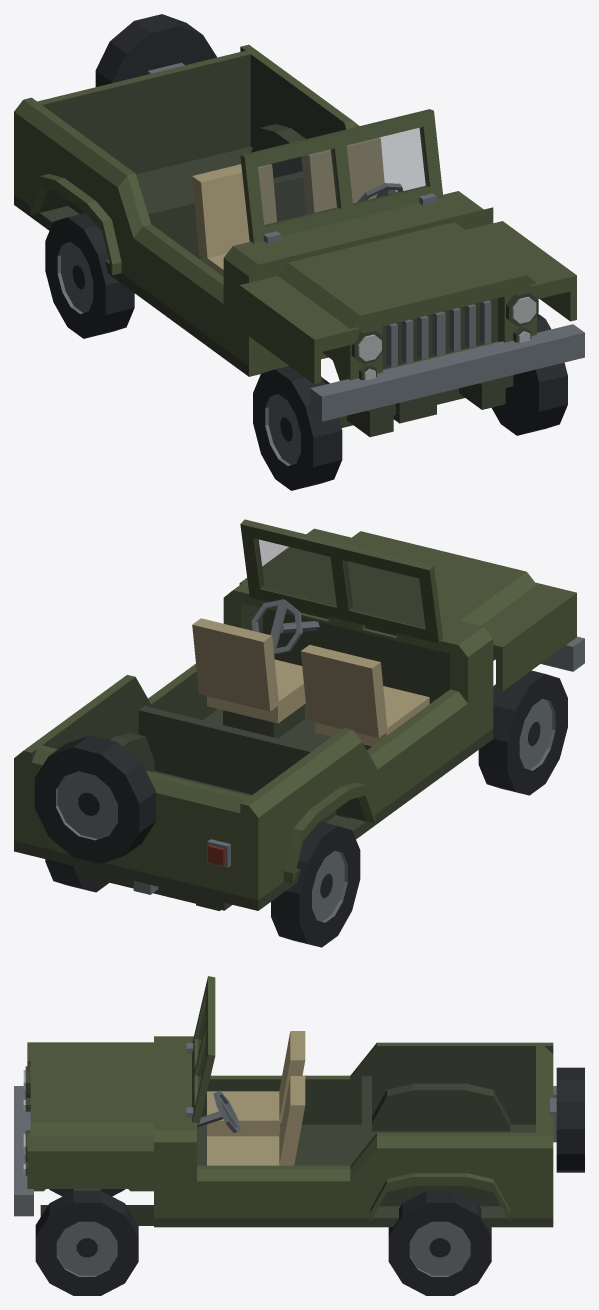
The model's file is scout-jeep.glb.
3 renders of one model, top to bottom at view 1: azimuth 30°, elevation 25°; view 2: azimuth 150°, elevation 25°; view 3: azimuth 270°, elevation 25°, orthographic. The views are drawn at different scales.
Parts seen in each view (by area): view 1: object 1, object 2, wheel-fl, wheel-rl, object 7, wheel-fr; view 2: object 1, object 7, wheel-fl, wheel-rl, object 2, wheel-rr; view 3: object 1, wheel-fr, wheel-rr, object 7.
Boxes of the visible parts, left/top/right/bottom form: object 1: left=14, top=44, right=584, bottom=437; object 2: left=258, top=127, right=427, bottom=225; wheel-fl: left=253, top=366, right=342, bottom=490; wheel-rl: left=45, top=213, right=134, bottom=338; object 7: left=95, top=14, right=217, bottom=86; wheel-fr: left=492, top=313, right=567, bottom=435; object 1: left=14, top=519, right=584, bottom=910; object 7: left=34, top=735, right=155, bottom=863; wheel-fl: left=478, top=670, right=567, bottom=795; wheel-rl: left=271, top=821, right=360, bottom=947; object 2: left=254, top=538, right=425, bottom=628; wheel-rr: left=45, top=859, right=108, bottom=892; object 1: left=14, top=976, right=556, bottom=1227; wheel-fr: left=35, top=1190, right=138, bottom=1295; wheel-rr: left=388, top=1190, right=491, bottom=1295; object 7: left=550, top=1067, right=584, bottom=1172.
Size of the model in its own units: 1.55 by 1.51 by 3.43.
